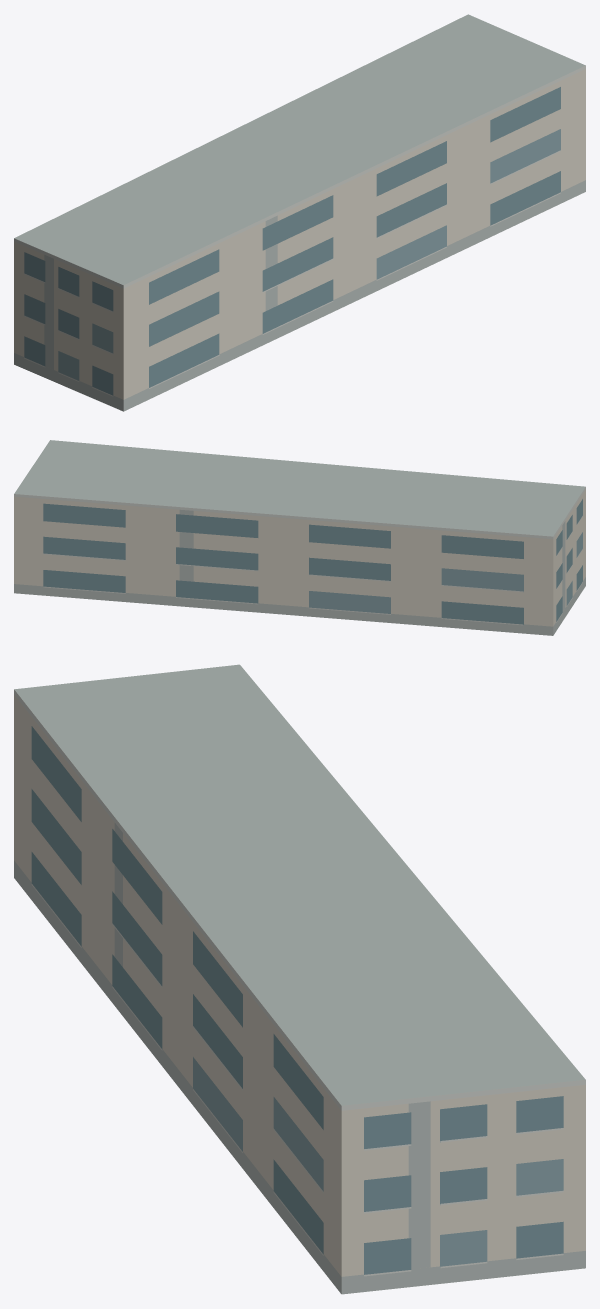
Rendered from residential-1171f87a-84c1-45b5-b053-3b4444c1339f.glb.
3 views of the same model, one above another, from view 1: azimuth 30°, elevation 25°; view 2: azimuth 150°, elevation 25°; view 3: azimuth 270°, elevation 25° (orthographic). The views are drawn at different scales.
Visible parts, largest first — view 1: residential-1171f87a-84c1-45b5-b053-3b4444c1339f.tmp; view 2: residential-1171f87a-84c1-45b5-b053-3b4444c1339f.tmp; view 3: residential-1171f87a-84c1-45b5-b053-3b4444c1339f.tmp.
Boxes of the visible parts, bbox=[...] form: residential-1171f87a-84c1-45b5-b053-3b4444c1339f.tmp: bbox=[14, 14, 585, 411]; residential-1171f87a-84c1-45b5-b053-3b4444c1339f.tmp: bbox=[14, 440, 585, 635]; residential-1171f87a-84c1-45b5-b053-3b4444c1339f.tmp: bbox=[14, 664, 585, 1294].
Size of the model in its own units: 45.94 by 9.15 by 25.16.
